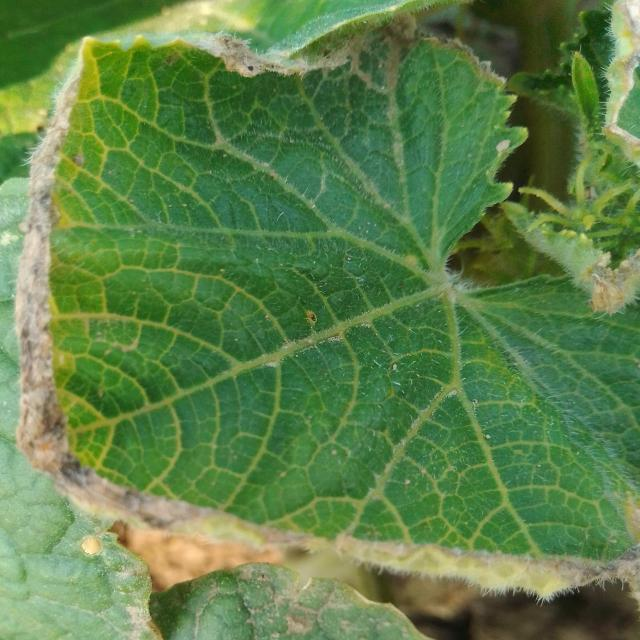cucumber_gummy: (14, 0, 640, 618), (497, 0, 640, 332)
